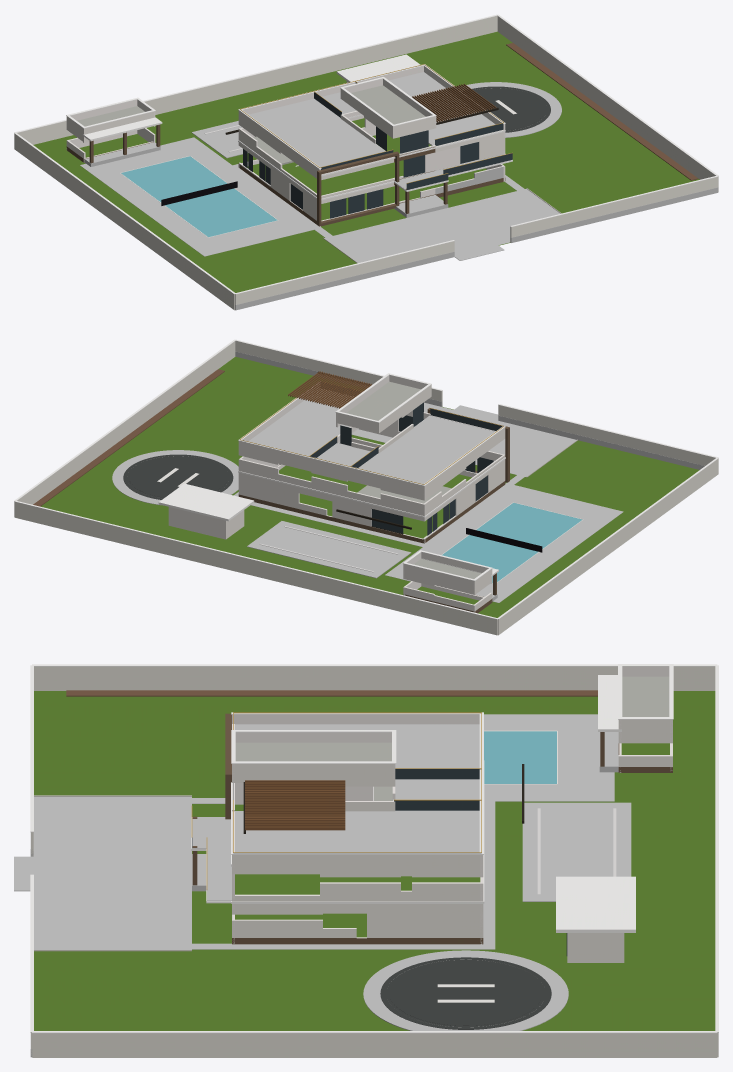
The model's file is est_S10_lod1.glb.
3 renders of one model, top to bottom at view 1: azimuth 30°, elevation 25°; view 2: azimuth 150°, elevation 25°; view 3: azimuth 270°, elevation 25°, orthographic. The views are drawn at different scales.
Visible parts, largest first — view 1: GR_est_S10_lod1; view 2: GR_est_S10_lod1; view 3: GR_est_S10_lod1.
Part boxes in pixels (box(x1,y1,x2,y2)): GR_est_S10_lod1: box(14, 14, 718, 310); GR_est_S10_lod1: box(14, 339, 718, 635); GR_est_S10_lod1: box(14, 664, 718, 1057).
Size of the model in its own units: 76.31 by 13.93 by 61.75.
Materials: 4 (1 with a texture image).
